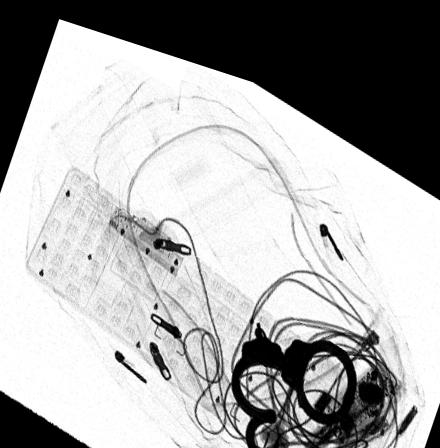HandCuffs: (230, 306, 356, 448)
